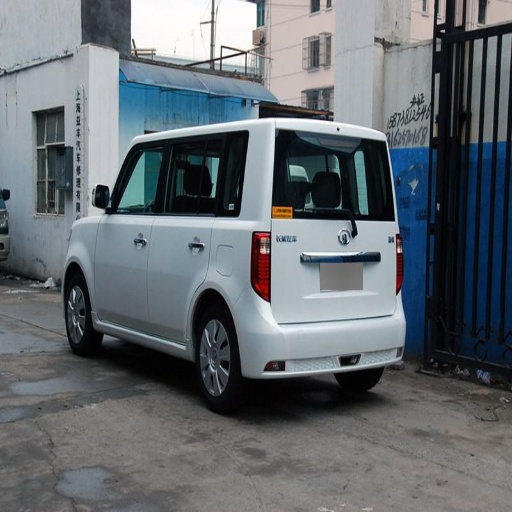back_bumper: (236, 293, 408, 378)
back_glass: (292, 170, 356, 216)
back_left_door: (148, 137, 221, 343)
trunk: (270, 220, 392, 322)
